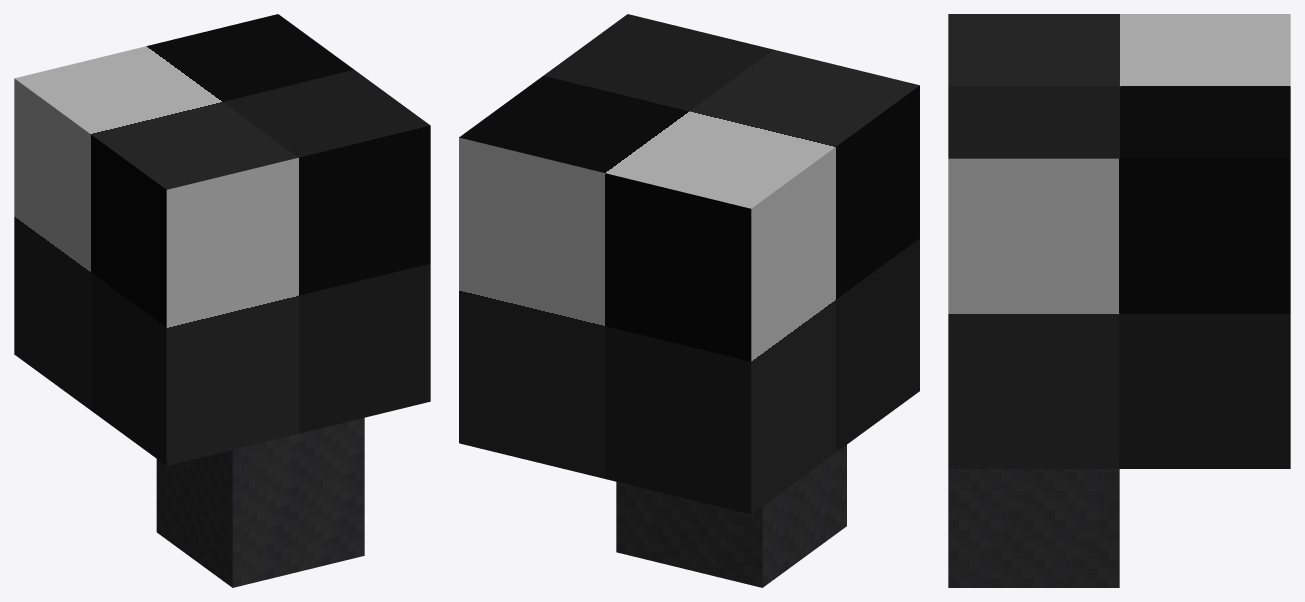
The model's file is guide_insulator.obj.
The picture shows the model from 3 angles, left to right: view 1: azimuth 30°, elevation 25°; view 2: azimuth 150°, elevation 25°; view 3: azimuth 270°, elevation 25°; orthographic projection. The views are drawn at different scales.
Visible parts, largest first — view 1: pole_light_mount_guide_insulator; view 2: pole_light_mount_guide_insulator; view 3: pole_light_mount_guide_insulator.
Boxes of the visible parts, <box> form: pole_light_mount_guide_insulator: <box>14,14,430,587</box>; pole_light_mount_guide_insulator: <box>459,14,919,587</box>; pole_light_mount_guide_insulator: <box>948,14,1290,587</box>.
Size of the model in its own units: 0.125 by 0.1875 by 0.125.
